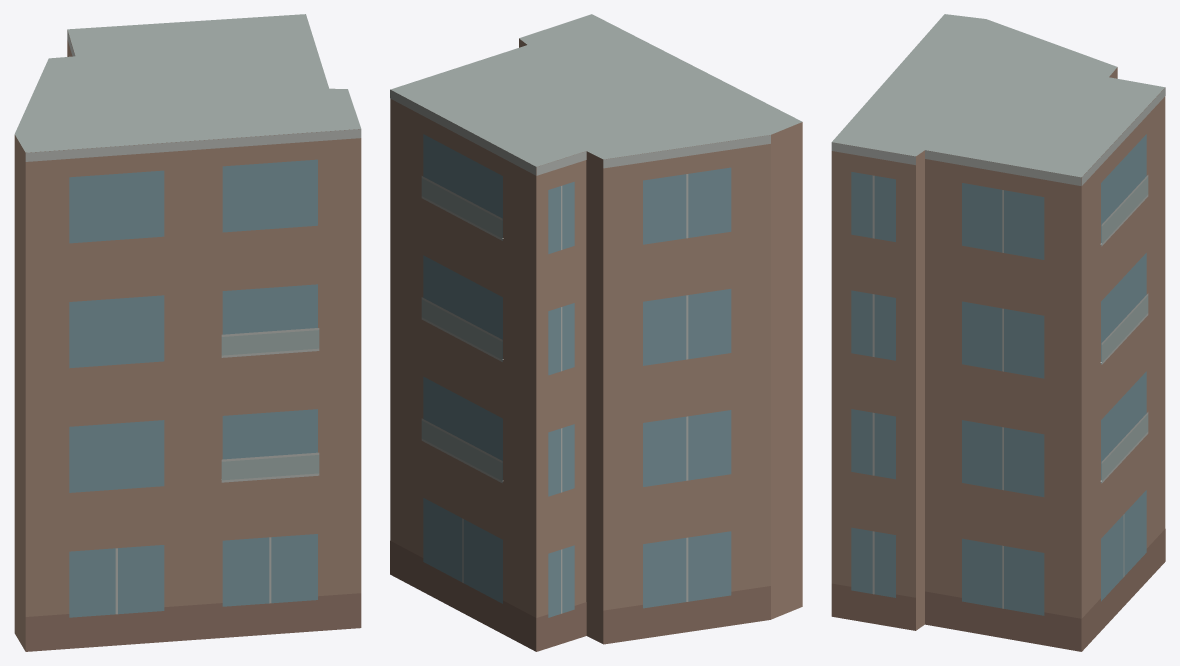
File: survey-upis-32497235.glb
3 views of the same model, side by side, from view 1: azimuth 30°, elevation 25°; view 2: azimuth 150°, elevation 25°; view 3: azimuth 270°, elevation 25° (orthographic). The views are drawn at different scales.
Visible parts, largest first — view 1: survey-upis-32497235.tmp; view 2: survey-upis-32497235.tmp; view 3: survey-upis-32497235.tmp.
Boxes of the visible parts, left/top/right/bottom form: survey-upis-32497235.tmp: left=14, top=14, right=361, bottom=651; survey-upis-32497235.tmp: left=390, top=14, right=802, bottom=651; survey-upis-32497235.tmp: left=831, top=14, right=1165, bottom=651.
Size of the model in its own units: 9.76 by 13.2 by 8.43.
